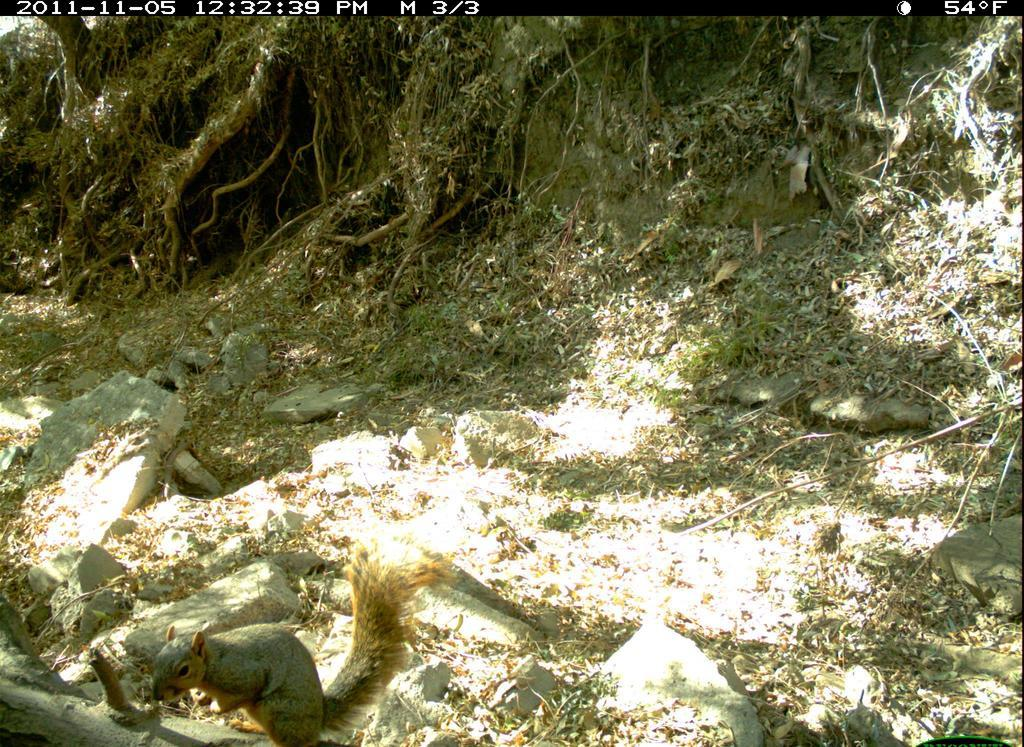squirrel: (126, 536, 464, 747)
